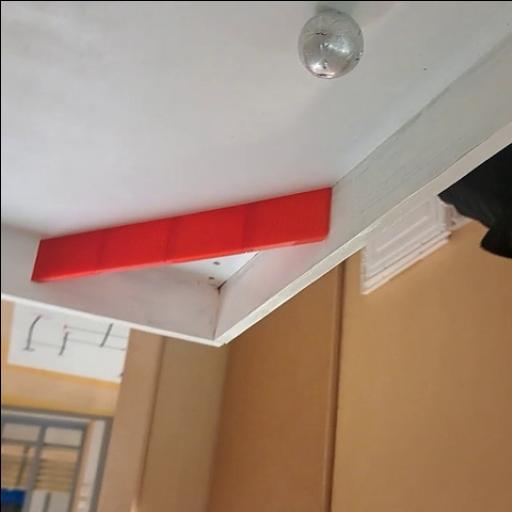alive: (296, 8, 364, 80)
